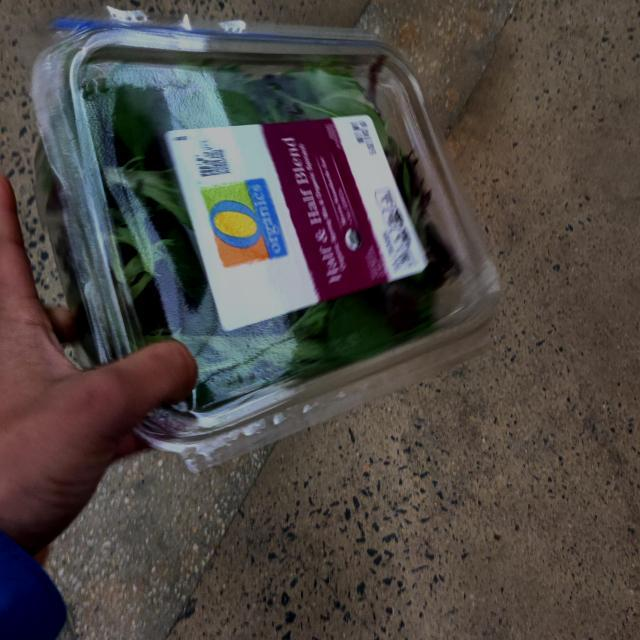Salad: (3, 0, 511, 459)
